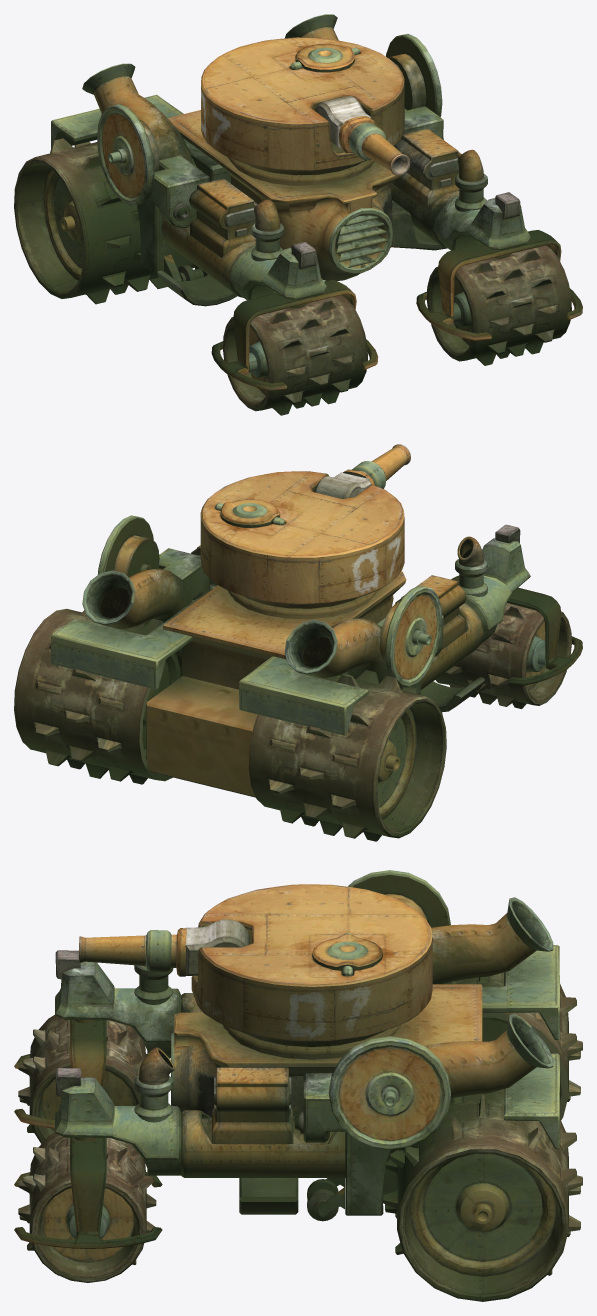
The model's file is tank - ori.fbx.
The picture shows the model from 3 angles, top to bottom: view 1: azimuth 30°, elevation 25°; view 2: azimuth 150°, elevation 25°; view 3: azimuth 270°, elevation 25°; orthographic projection. The views are drawn at different scales.
Visible parts, largest first — view 1: r_engine_geo, turret_geo, r_back_wheel_geo, l_engine_geo, tank_geo, r_front_wheel_geo, l_front_wheel_geo, l_steer_geo, r_steer_geo, canon_geo, hatch_geo; view 2: r_engine_geo, r_back_wheel_geo, turret_geo, tank_geo, l_engine_geo, l_back_wheel_geo, r_front_wheel_geo, r_steer_geo, canon_geo, hatch_geo; view 3: l_engine_geo, turret_geo, l_back_wheel_geo, r_engine_geo, tank_geo, l_front_wheel_geo, r_front_wheel_geo, canon_geo, l_steer_geo, r_back_wheel_geo, r_steer_geo, hatch_geo.
Boxes of the visible parts, x1,y1,x2,y2 form: r_engine_geo: (51, 63, 326, 300); turret_geo: (201, 37, 404, 185); r_back_wheel_geo: (14, 138, 196, 304); l_engine_geo: (285, 14, 530, 250); tank_geo: (157, 110, 447, 306); r_front_wheel_geo: (223, 295, 367, 415); l_front_wheel_geo: (426, 245, 571, 365); l_steer_geo: (416, 230, 582, 340); r_steer_geo: (211, 279, 378, 390); canon_geo: (314, 96, 410, 175); hatch_geo: (295, 44, 354, 71); r_engine_geo: (239, 524, 530, 735); r_back_wheel_geo: (248, 670, 446, 841); turret_geo: (200, 471, 404, 619); tank_geo: (146, 571, 484, 797); l_engine_geo: (51, 515, 217, 689); l_back_wheel_geo: (14, 608, 181, 784); r_front_wheel_geo: (435, 603, 571, 708); r_steer_geo: (451, 575, 582, 685); canon_geo: (314, 444, 410, 498); hatch_geo: (220, 499, 279, 527); l_engine_geo: (55, 1014, 559, 1221); turret_geo: (191, 884, 432, 1059); l_back_wheel_geo: (383, 1089, 582, 1301); r_engine_geo: (55, 870, 559, 1058); tank_geo: (171, 984, 482, 1214); l_front_wheel_geo: (18, 1132, 156, 1282); r_front_wheel_geo: (18, 1015, 145, 1143); canon_geo: (79, 919, 249, 976); l_steer_geo: (14, 1137, 162, 1248); r_back_wheel_geo: (443, 972, 582, 1120); r_steer_geo: (14, 1020, 147, 1128); hatch_geo: (312, 933, 382, 969).
Bounding box in the file's own units: 6.06 × 3.85 × 6.98.
